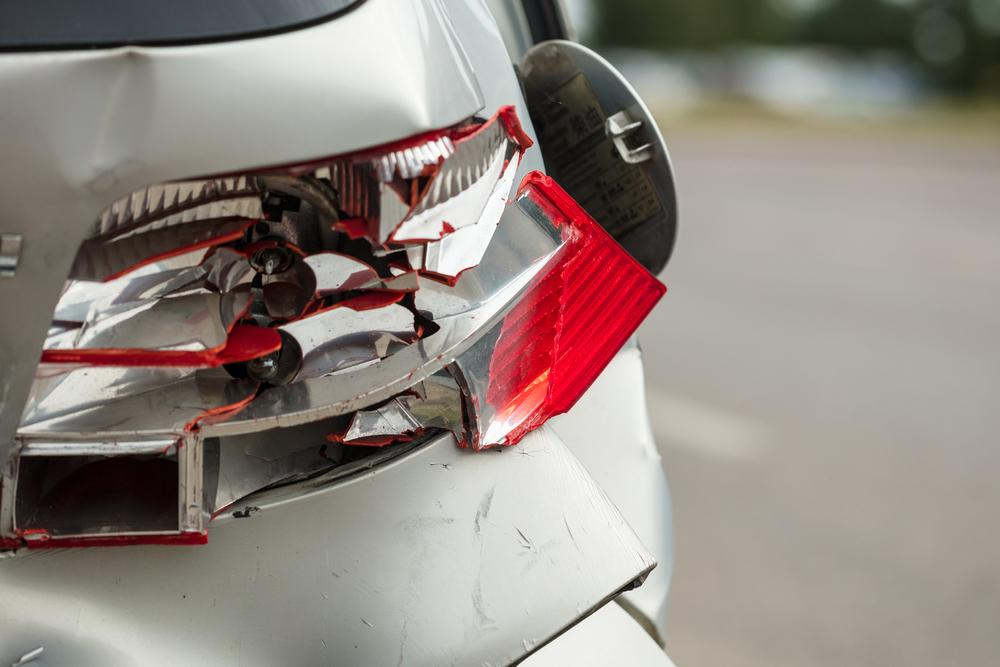dent: (39, 49, 156, 187)
lamp broken: (0, 107, 668, 553)
